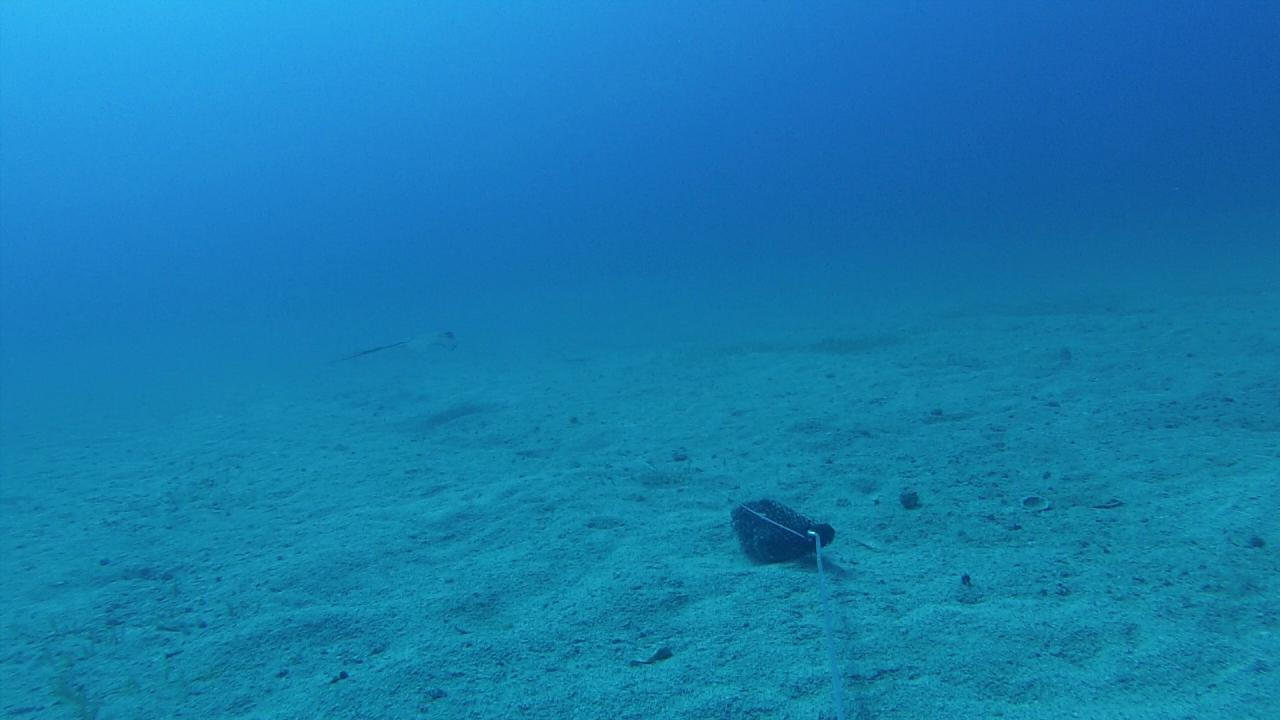dasyatis: (328, 326, 464, 364)
